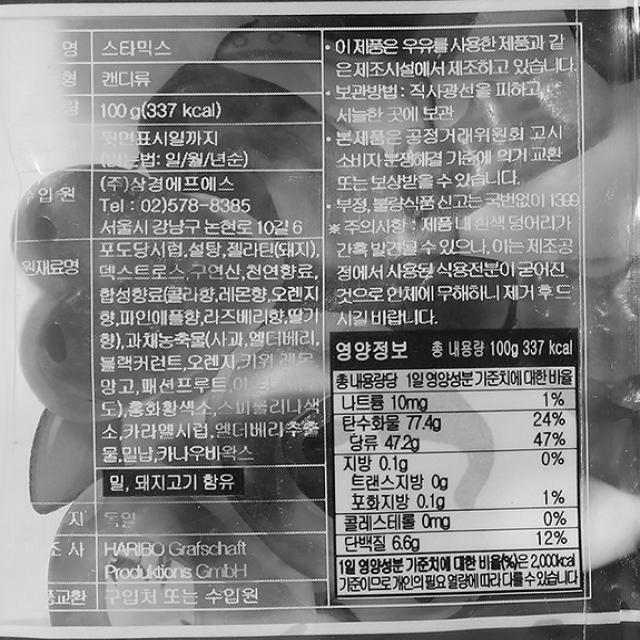Nutrition Label: (326, 334, 586, 597)
